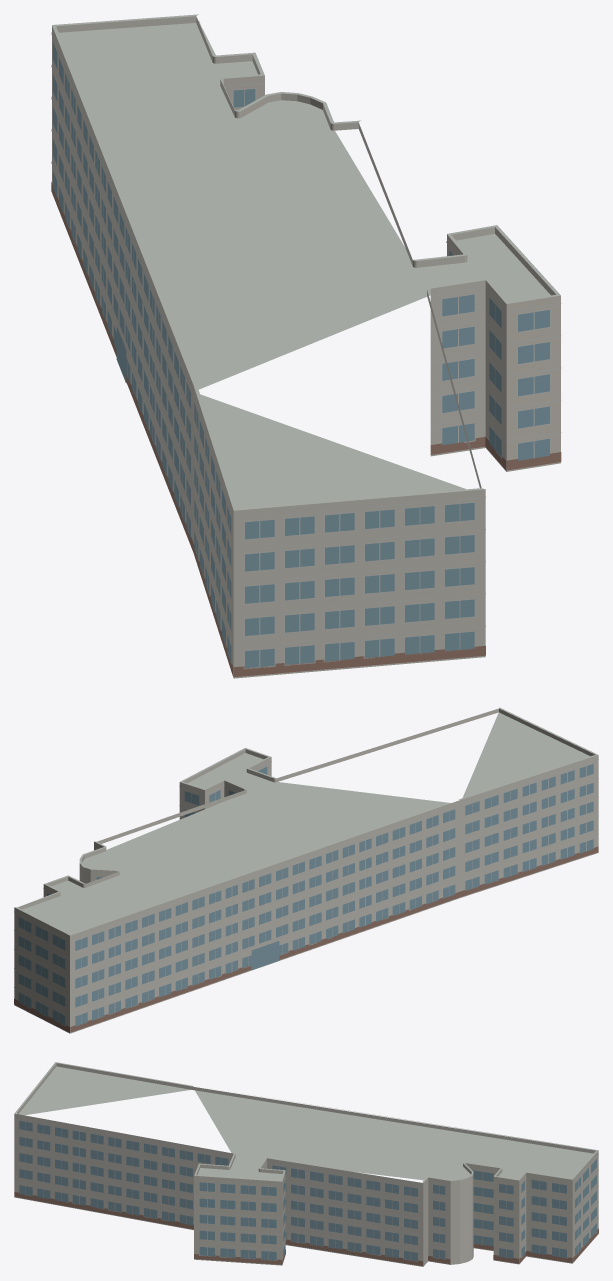
Rendered from public-c481e025-56e6-4440-a2f0-954f5e4e0cfd.glb.
The picture shows the model from 3 angles, top to bottom: view 1: azimuth 30°, elevation 25°; view 2: azimuth 150°, elevation 25°; view 3: azimuth 270°, elevation 25°; orthographic projection. The views are drawn at different scales.
Visible parts, largest first — view 1: public-c481e025-56e6-4440-a2f0-954f5e4e0cfd; view 2: public-c481e025-56e6-4440-a2f0-954f5e4e0cfd; view 3: public-c481e025-56e6-4440-a2f0-954f5e4e0cfd.
Part boxes in pixels (box(x1,y1,x2,y2)): public-c481e025-56e6-4440-a2f0-954f5e4e0cfd: box(51, 14, 561, 678); public-c481e025-56e6-4440-a2f0-954f5e4e0cfd: box(14, 707, 598, 1033); public-c481e025-56e6-4440-a2f0-954f5e4e0cfd: box(14, 1062, 598, 1266).
Bounding box in the file's own units: 47.29 × 15.25 × 96.36.
